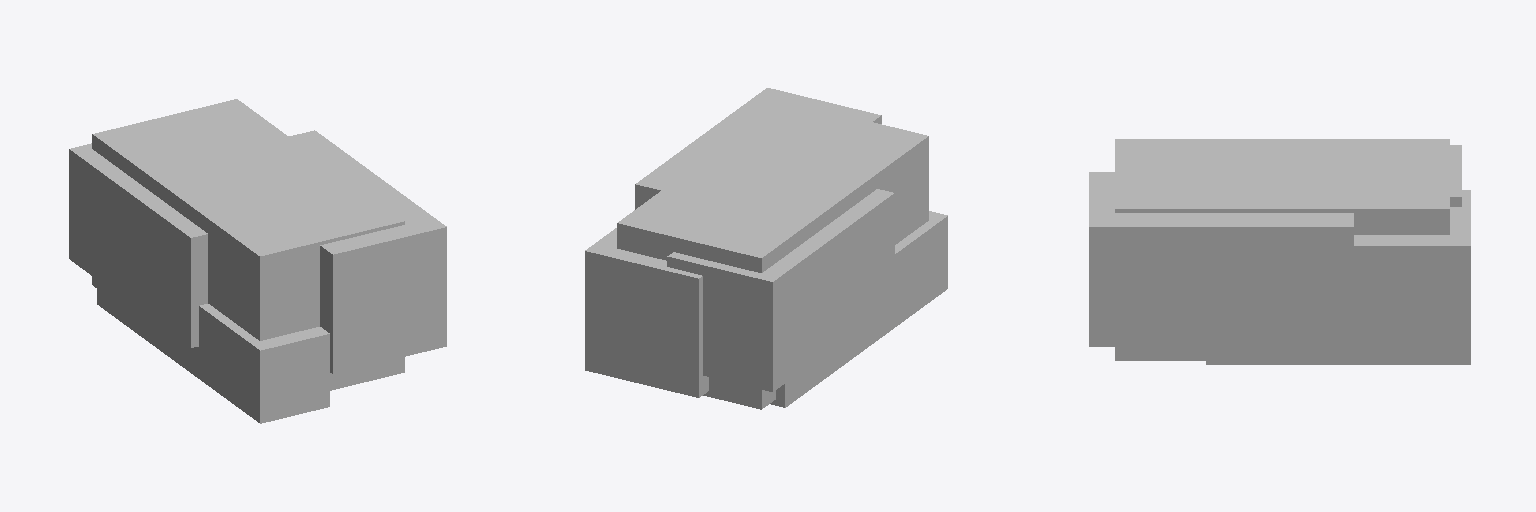
File: asteroid 1.obj
3 views of the same model, side by side, from view 1: azimuth 30°, elevation 25°; view 2: azimuth 150°, elevation 25°; view 3: azimuth 270°, elevation 25° (orthographic).
Visible parts, largest first — view 1: asteroid_3; view 2: asteroid_3; view 3: asteroid_3.
Boxes of the visible parts, x1=… form: asteroid_3: x1=69, y1=99, x2=446, y2=423; asteroid_3: x1=585, y1=88, x2=947, y2=409; asteroid_3: x1=1089, y1=139, x2=1470, y2=364.
Bounding box in the file's own units: 5.27 × 4.15 × 9.07.